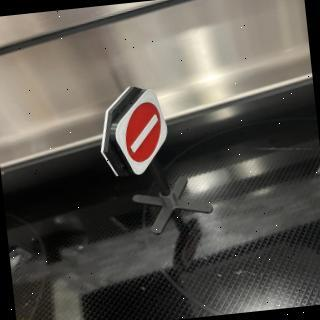sign_noentry: (108, 89, 173, 178)
